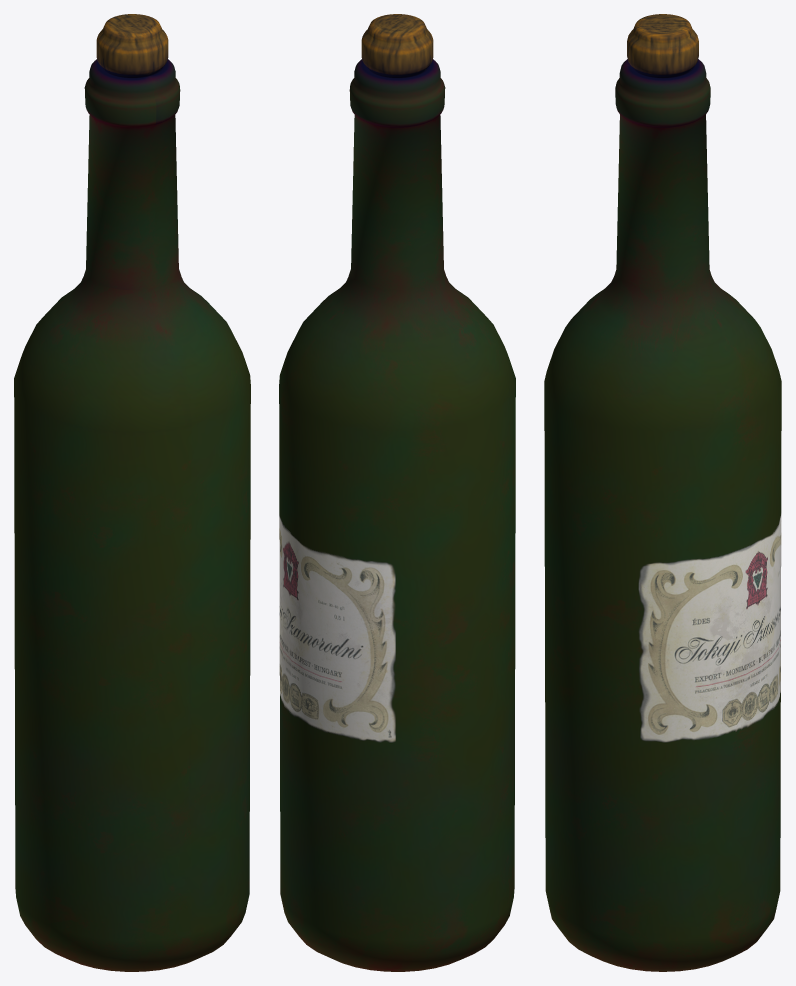
File: bottle_of_wine.glb
3 views of the same model, side by side, from view 1: azimuth 30°, elevation 25°; view 2: azimuth 150°, elevation 25°; view 3: azimuth 270°, elevation 25° (orthographic).
Parts seen in each view (by area): view 1: bottle_low; view 2: bottle_low; view 3: bottle_low.
Boxes of the visible parts, x1,y1,x2,y2 form: bottle_low: (14, 14, 250, 971); bottle_low: (279, 14, 515, 971); bottle_low: (544, 14, 781, 971).
Bounding box in the file's own units: 0.3017 × 1.29 × 0.3017.
1 material, 1 textured.
